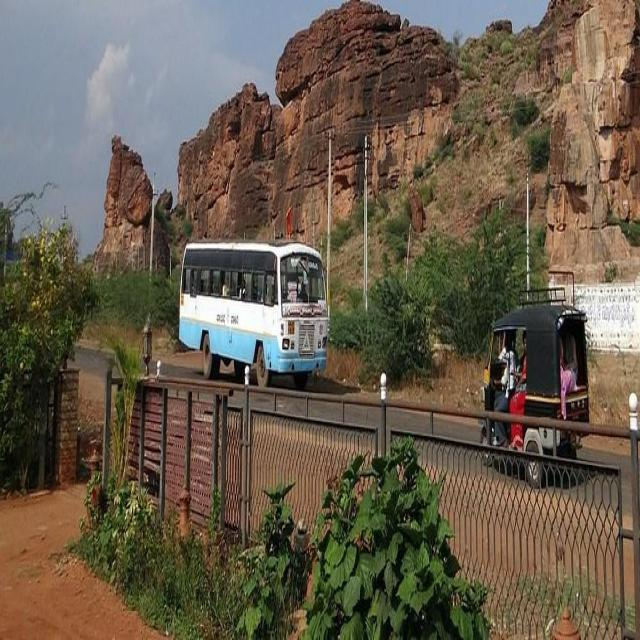Car: (483, 303, 588, 458)
bus: (179, 242, 327, 389)
